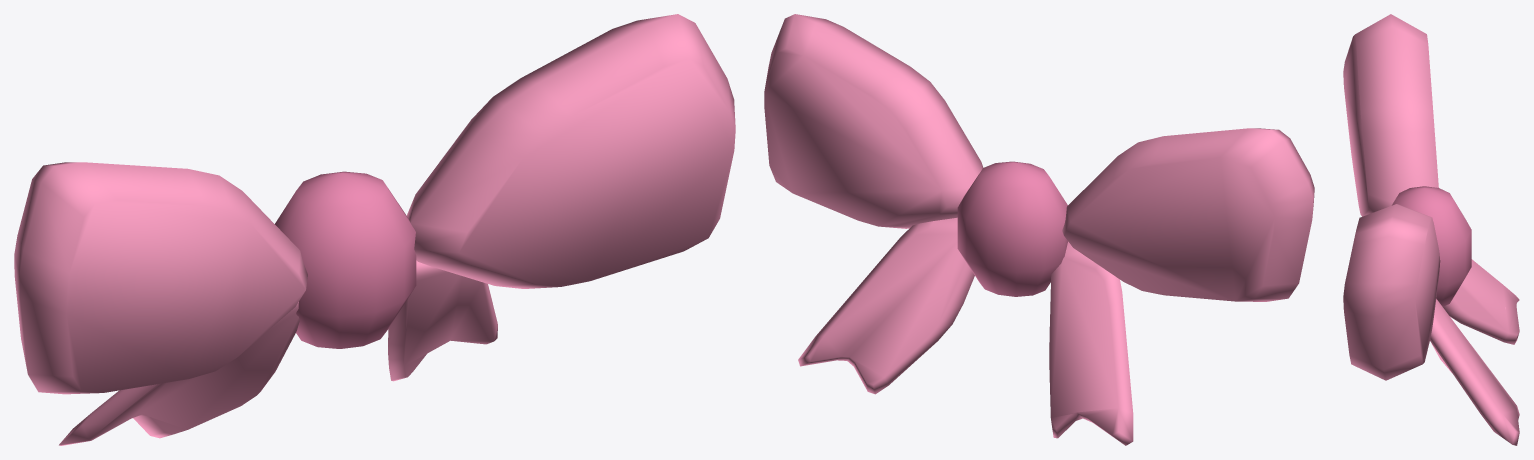
File: ribbon_pink.glb
3 renders of one model, left to right at view 1: azimuth 30°, elevation 25°; view 2: azimuth 150°, elevation 25°; view 3: azimuth 270°, elevation 25°, orthographic. The views are drawn at different scales.
Parts seen in each view (by area): view 1: Loop.001, Loop, Knot, Tail, Tail.001; view 2: Loop, Loop.001, Tail.001, Tail, Knot; view 3: Loop, Loop.001, Tail.001, Knot, Tail.
Boxes of the visible parts, left/top/right/bottom form: Loop.001: left=407, top=14, right=735, bottom=288; Loop: left=14, top=162, right=307, bottom=394; Knot: left=275, top=171, right=416, bottom=348; Tail: left=59, top=302, right=299, bottom=445; Tail.001: left=388, top=260, right=497, bottom=381; Loop: left=1062, top=128, right=1314, bottom=301; Loop.001: left=764, top=14, right=983, bottom=228; Tail.001: left=798, top=217, right=974, bottom=394; Tail: left=1049, top=241, right=1133, bottom=445; Knot: left=957, top=161, right=1067, bottom=296; Loop: left=1343, top=14, right=1438, bottom=216; Loop.001: left=1343, top=204, right=1440, bottom=380; Tail.001: left=1430, top=299, right=1519, bottom=445; Knot: left=1392, top=186, right=1471, bottom=306; Tail: left=1443, top=259, right=1519, bottom=344.
Bounding box in the file's own units: 0.1031 × 0.0532 × 0.032.
Materials: 1 (1 with a texture image).
